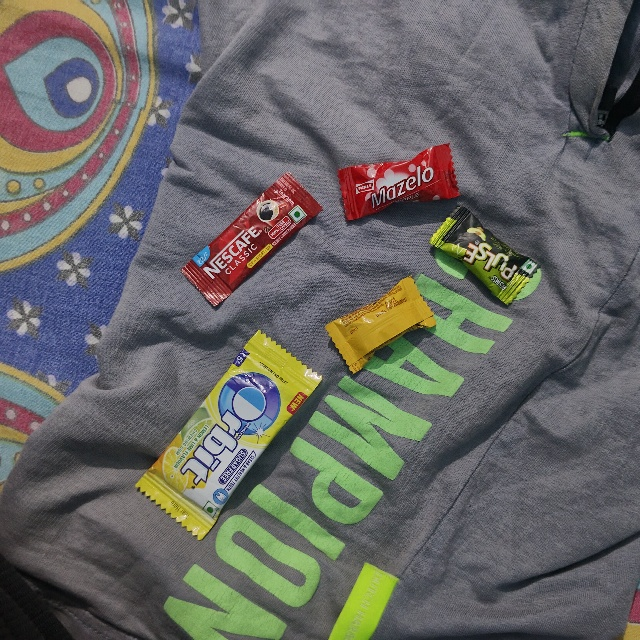Alpenlibe Creamfills: (318, 329, 428, 391)
Mazelo: (332, 171, 451, 231)
Nescafe Coffee: (178, 273, 326, 330)
Orbit: (253, 326, 348, 525)
Pulse: (462, 205, 558, 261)
